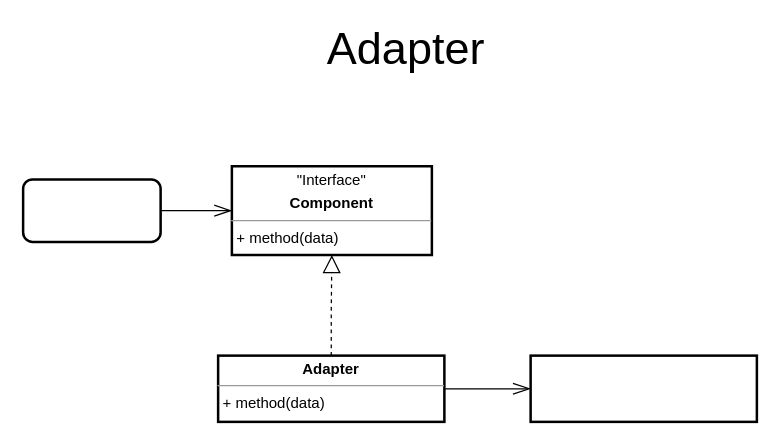
This 779x445 diagram has some shape labels left out. Each missing label, with the box of its shape:
Adaptee + method(data): (529, 354, 758, 422)
Client: (21, 178, 161, 242)
